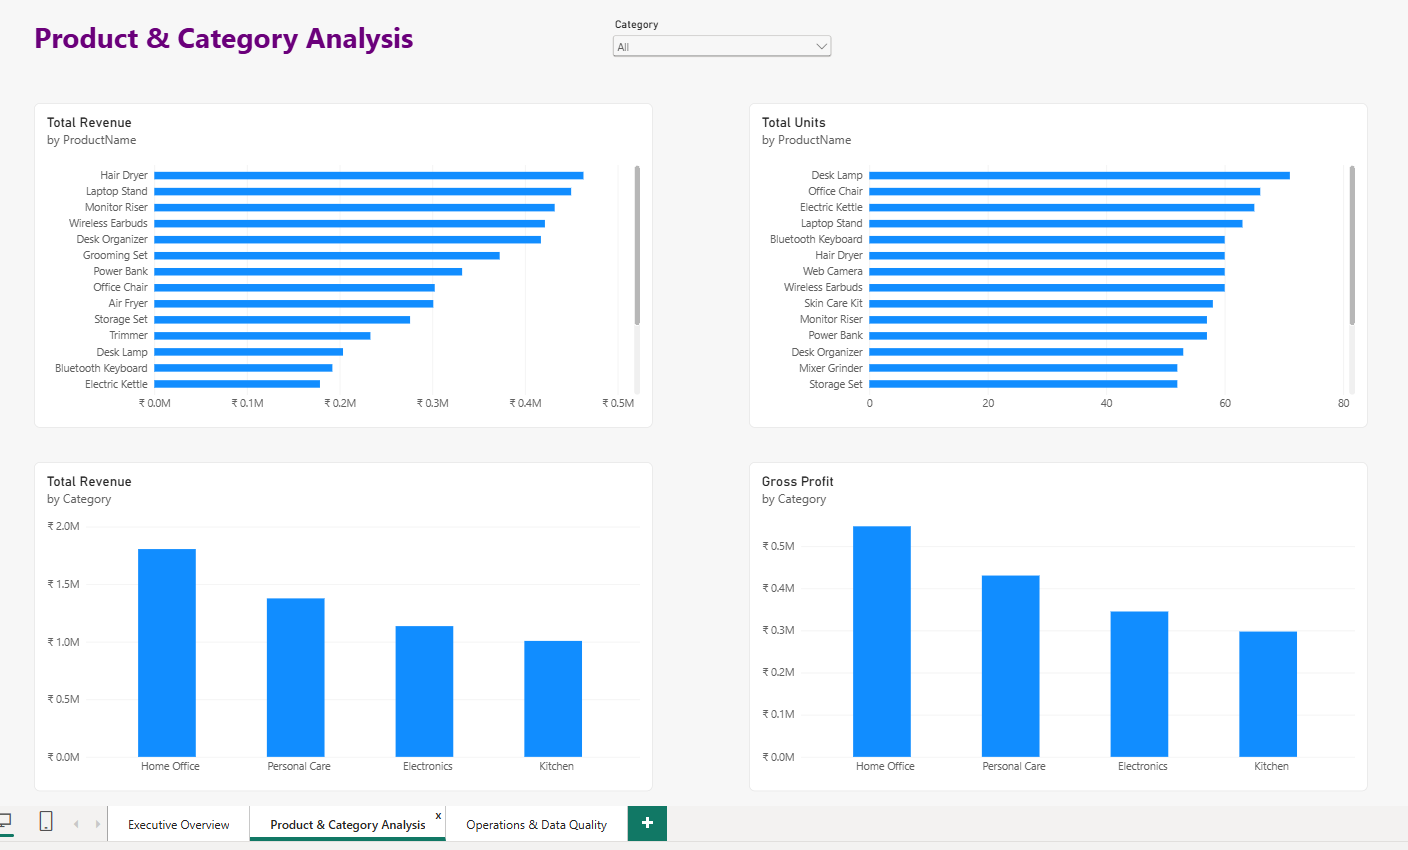

The page's visual inventory and layout, read from the dashboard file:
{"tool":"powerbi","page":{"name":"Product & Category Analysis","canvas":[1920,1080],"ordinal":1},"visuals":[{"type":"clusteredBarChart","fields":{"Category":["products.ProductName"],"Y":["Sales.Total Revenue"]},"box":[45.2,145,823.3,432.3],"z":0},{"type":"clusteredBarChart","fields":{"Category":["products.ProductName"],"Y":["Sales.Total Units"]},"box":[996.2,145,823.3,432.3],"z":1000},{"type":"clusteredColumnChart","fields":{"Category":["products.Category"],"Y":["Sales.Total Revenue"]},"box":[45.2,622.5,823.3,437.6],"z":2000},{"type":"clusteredColumnChart","fields":{"Category":["products.Category"],"Y":["Sales.Gross Profit"]},"box":[996.2,622.5,823.3,437.6],"z":3000},{"type":"slicer","fields":{"Values":["products.Category"]},"box":[810,31.9,300.6,97.1],"z":4000},{"type":"textbox","box":[45.2,31.9,528,75.8],"z":5000}]}

Visuals, with their boxes on the page's 1920x1080 design canvas (x1, y1, x2, y2). These are canvas units, not pixel positions in the 1408x850 screenshot, which may show the page scaled, cropped or inside an application window:
clusteredBarChart - products.ProductName x Sales.Total Revenue: box(45, 145, 868, 577)
clusteredBarChart - products.ProductName x Sales.Total Units: box(996, 145, 1820, 577)
clusteredColumnChart - products.Category x Sales.Total Revenue: box(45, 622, 868, 1060)
clusteredColumnChart - products.Category x Sales.Gross Profit: box(996, 622, 1820, 1060)
slicer - products.Category: box(810, 32, 1111, 129)
textbox: box(45, 32, 573, 108)
